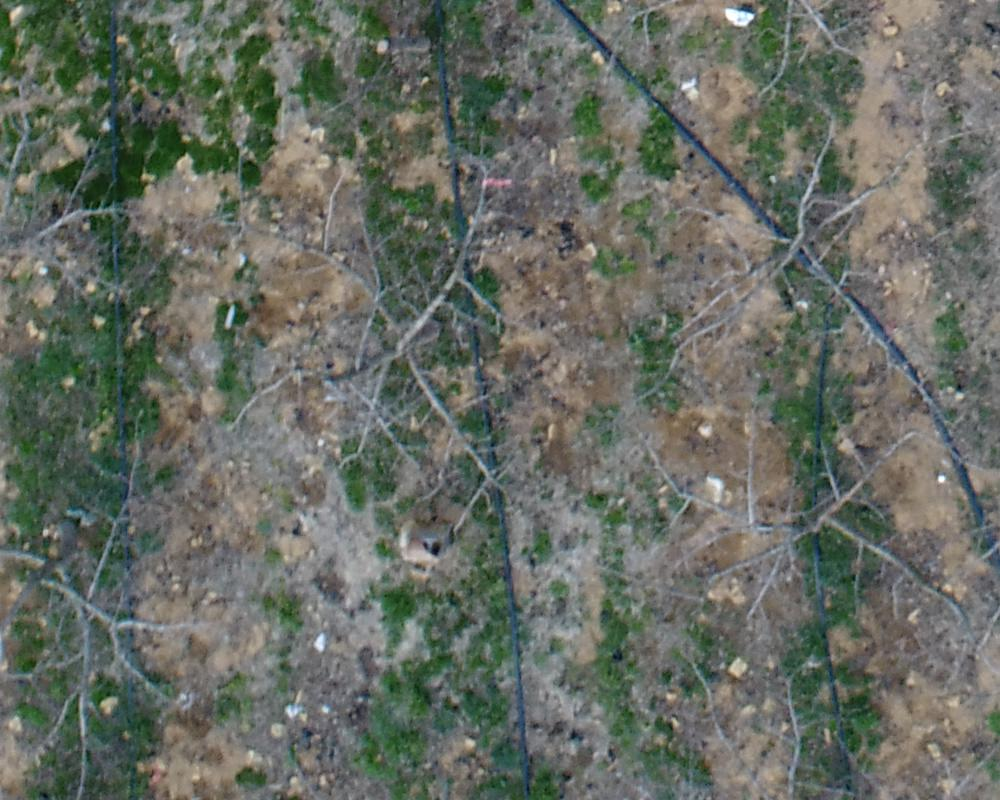apple: (172, 144, 557, 572), (584, 119, 943, 416), (623, 396, 990, 663), (10, 87, 164, 331)
